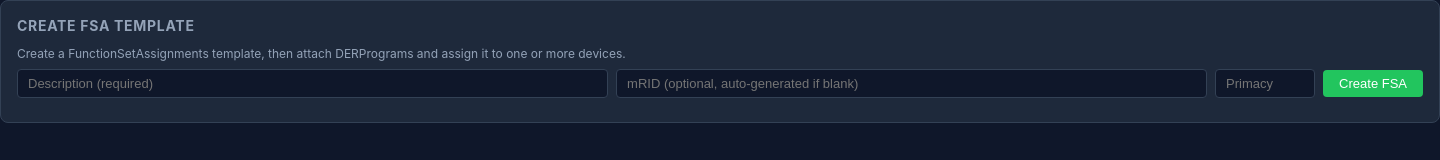
CreateFsa › reports a duplicate mRID conflict with its status
The width and height of the screenshot is (1440, 160).
In the field with id "newFSADesc": (312, 84) x1=17 y1=69 x2=608 y2=98, type "dupe"
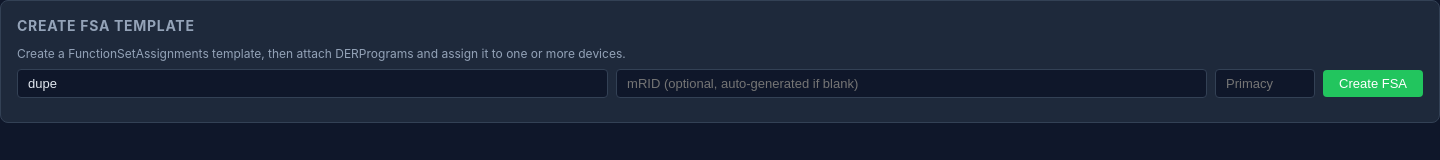
Click the button "Create FSA": (1373, 84) x1=1323 y1=70 x2=1423 y2=97
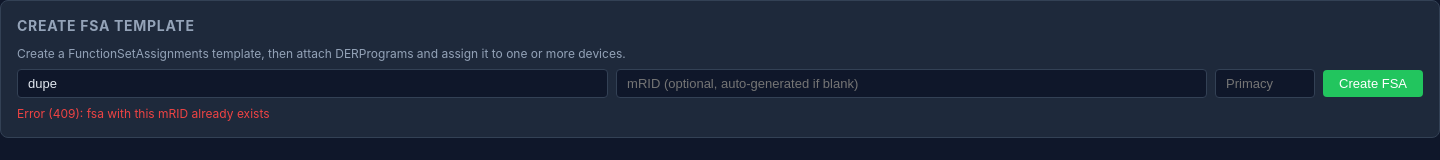
Expected: the text with id "createFSAResult" reads "Error (409): fsa with this mRID already exists", x1=17 y1=106 x2=270 y2=121
